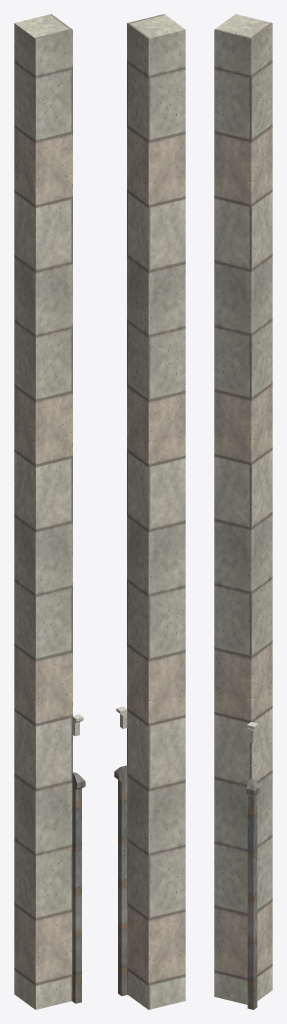
File: corner.glb
3 renders of one model, left to right at view 1: azimuth 30°, elevation 25°; view 2: azimuth 210°, elevation 25°; view 3: azimuth 330°, elevation 25°, orthographic.
Visible parts, largest first — view 1: corner_stone, corner_granite; view 2: corner_stone, corner_granite; view 3: corner_stone, corner_granite, corner_carve.
Part boxes in pixels (x1,y1,x2,y2): corner_stone: [14, 14, 72, 1009]; corner_granite: [72, 772, 85, 1003]; corner_stone: [127, 14, 185, 1009]; corner_granite: [114, 765, 127, 995]; corner_stone: [214, 14, 272, 1004]; corner_granite: [246, 778, 259, 1009]; corner_carve: [247, 722, 258, 742].
Bounding box in the file's own units: 0.366 × 7.5 × 0.366.
Materials: 3 (3 with a texture image).
